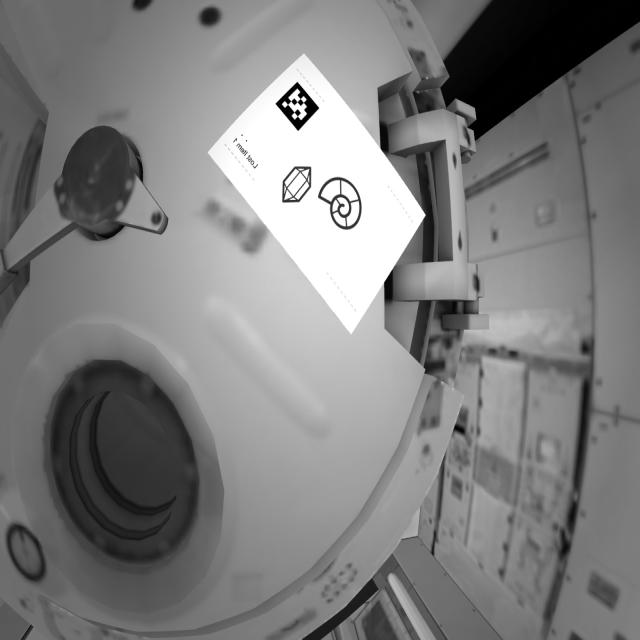crystal: (278, 162, 315, 208)
fossil: (315, 173, 369, 236)
